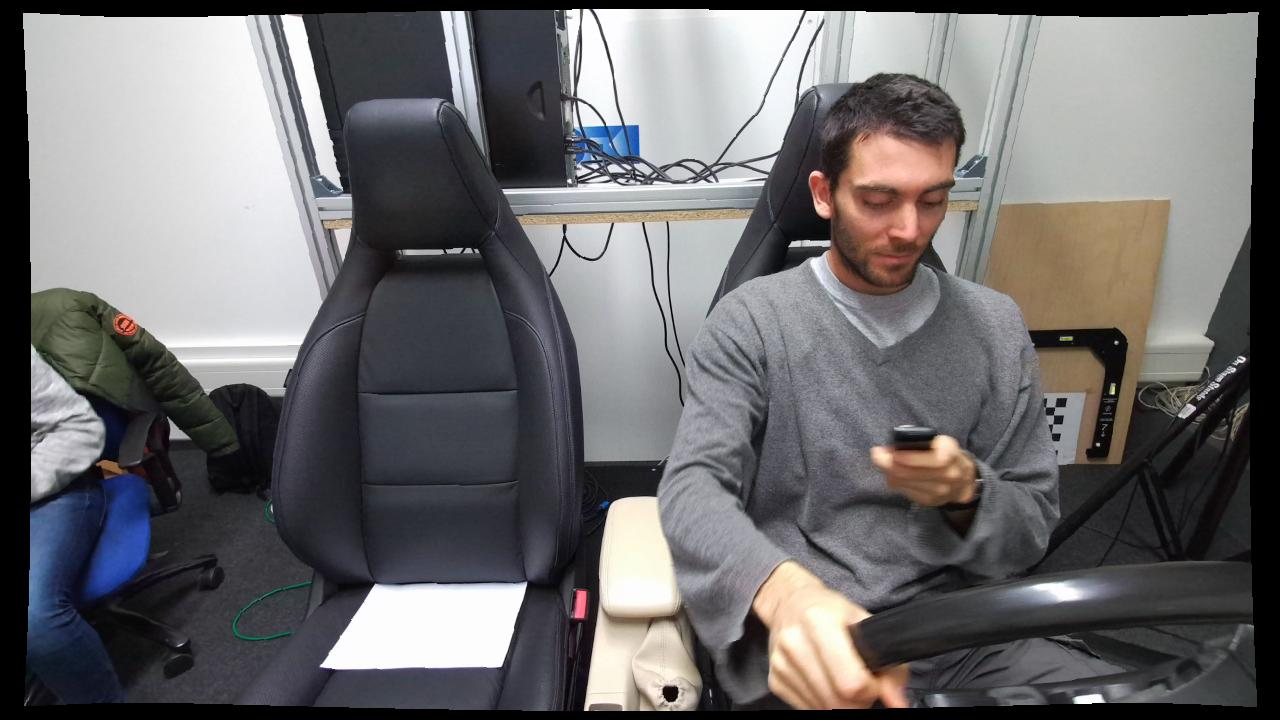PhoneUse: (853, 398, 977, 526)
SafeDriving: (664, 61, 1069, 720)
